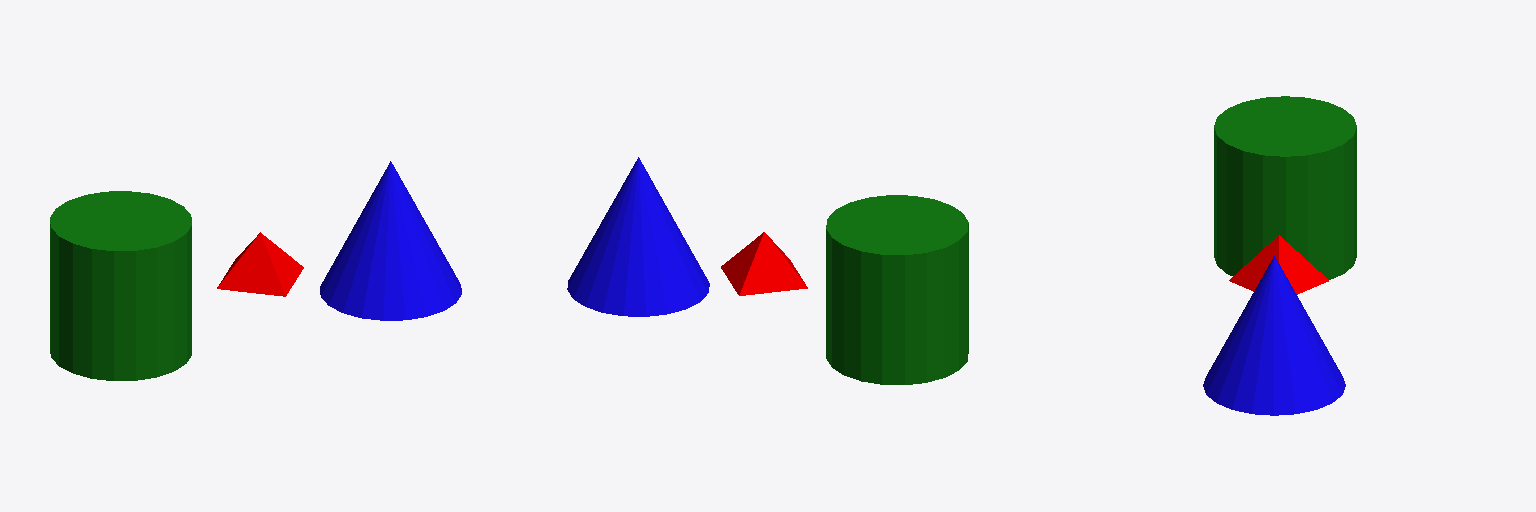
3 views of the same model, side by side, from view 1: azimuth 30°, elevation 25°; view 2: azimuth 150°, elevation 25°; view 3: azimuth 270°, elevation 25° (orthographic).
Visible parts, largest first — view 1: pCylinder1, pCone1, pPyramid1; view 2: pCylinder1, pCone1, pPyramid1; view 3: pCylinder1, pCone1, pPyramid1.
Part boxes in pixels (x1,y1,x2,y2): pCylinder1: (50,191,191,380); pCone1: (320,161,461,320); pPyramid1: (217,232,303,296); pCylinder1: (826,195,968,384); pCone1: (567,157,709,316); pPyramid1: (721,232,807,295); pCylinder1: (1214,96,1356,279); pCone1: (1203,255,1345,415); pPyramid1: (1229,235,1328,294).
Size of the model in its own units: 6.25 by 2 by 2.15.